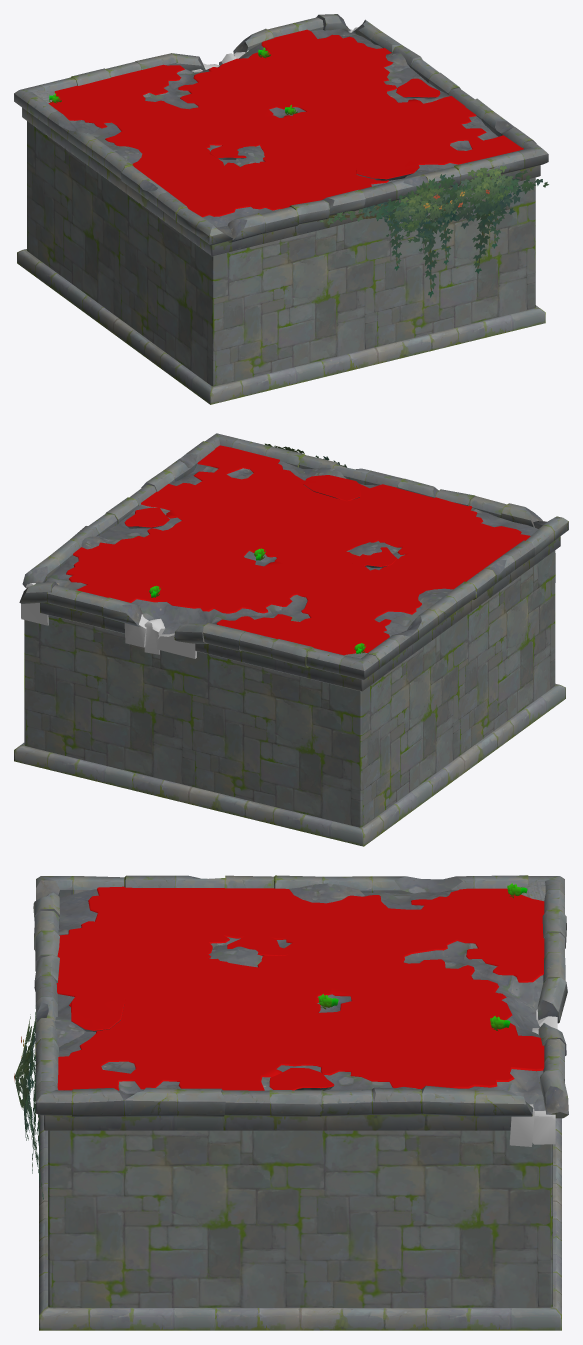
Rendered from Area_MdBuild_SdPlatform09_Group.fbx.
The picture shows the model from 3 angles, top to bottom: view 1: azimuth 30°, elevation 25°; view 2: azimuth 150°, elevation 25°; view 3: azimuth 270°, elevation 25°; orthographic projection. The views are drawn at different scales.
Visible parts, largest first — view 1: Area_MdBuild_SdPlatform09_Lod0, Stages_LYLvy03_Vo (1); view 2: Area_MdBuild_SdPlatform09_Lod0; view 3: Area_MdBuild_SdPlatform09_Lod0, Stages_LYLvy03_Vo (1).
Part boxes in pixels (x1,y1,x2,y2): Area_MdBuild_SdPlatform09_Lod0: (14,14,548,404); Stages_LYLvy03_Vo (1): (317,165,548,297); Area_MdBuild_SdPlatform09_Lod0: (14,433,568,846); Area_MdBuild_SdPlatform09_Lod0: (33,875,568,1330); Stages_LYLvy03_Vo (1): (14,1005,43,1199).
Bounding box in the file's own units: 22.21 × 10.81 × 21.99.
